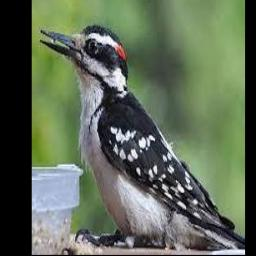Woodpecker: (39, 25, 245, 250)
